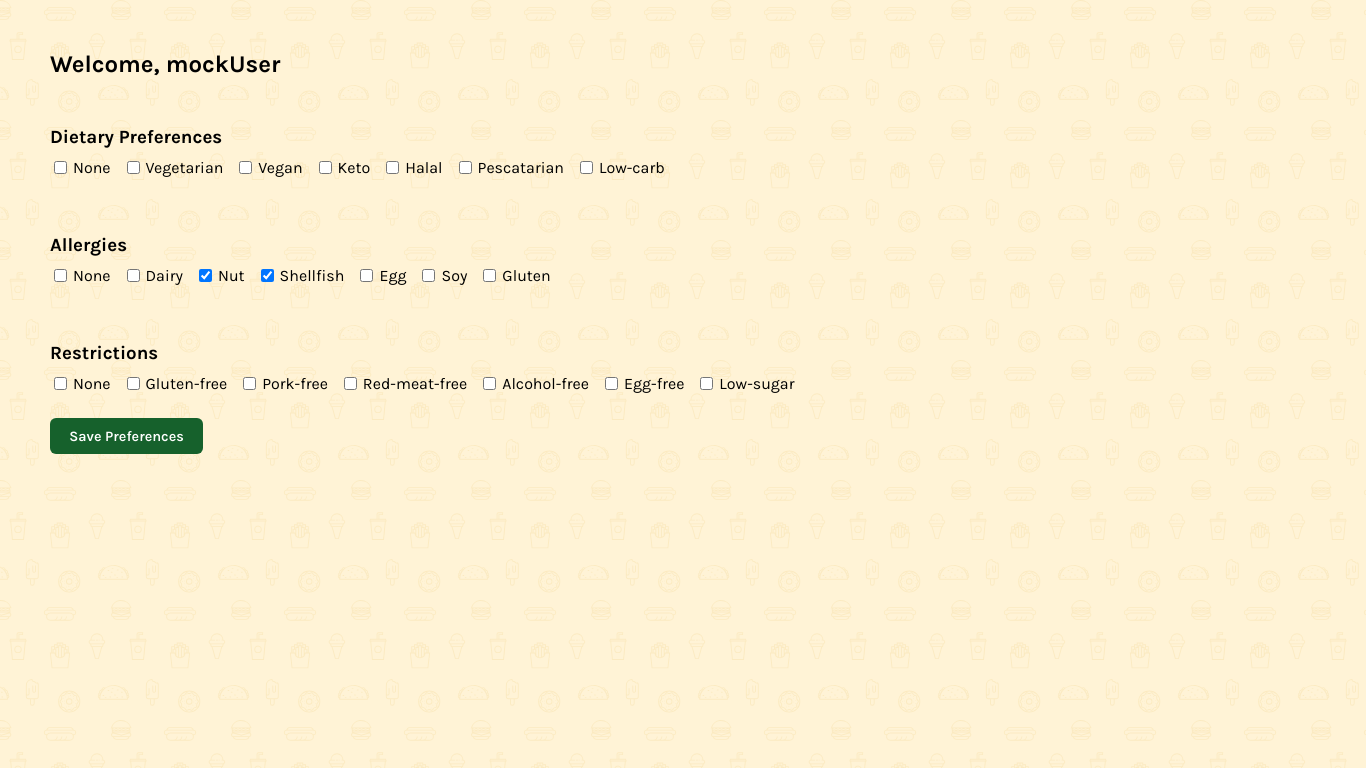
Test case: MainPage › selecting "None" unchecks all other allergy options
The width and height of the screenshot is (1366, 768).
Check: the heading "Welcome, mockUser" is shown, box [50,50,280,78]
Check: the checkbox labelled "Nut" is checked, box [199,269,212,282]
What coordinates should you click on to do the following:
click the checkbox labelled "None" in the row of "Dairy"
I would click on:
 (60, 275)
Its box is [54,269,67,282].
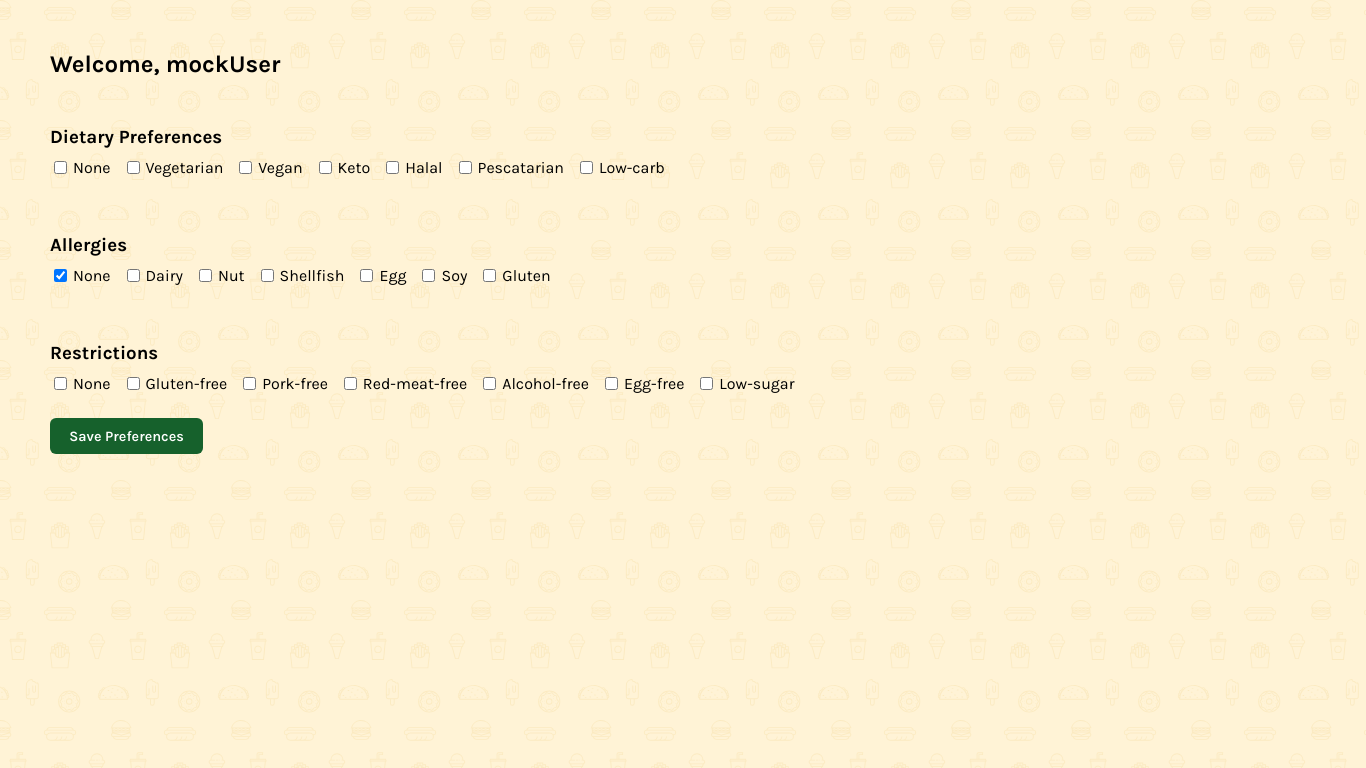
Check: the checkbox labelled "None" in the row of "Dairy" is checked, box [54,269,67,282]
Check: the checkbox labelled "Nut" is not checked, box [199,269,212,282]
Check: the checkbox labelled "Shellfish" is not checked, box [261,269,274,282]
